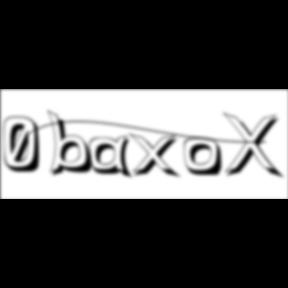0: (3, 115, 48, 174)
X: (223, 112, 287, 182)
a: (90, 135, 138, 182)
b: (47, 109, 100, 179)
o: (183, 137, 225, 179)
x: (130, 132, 184, 181)
